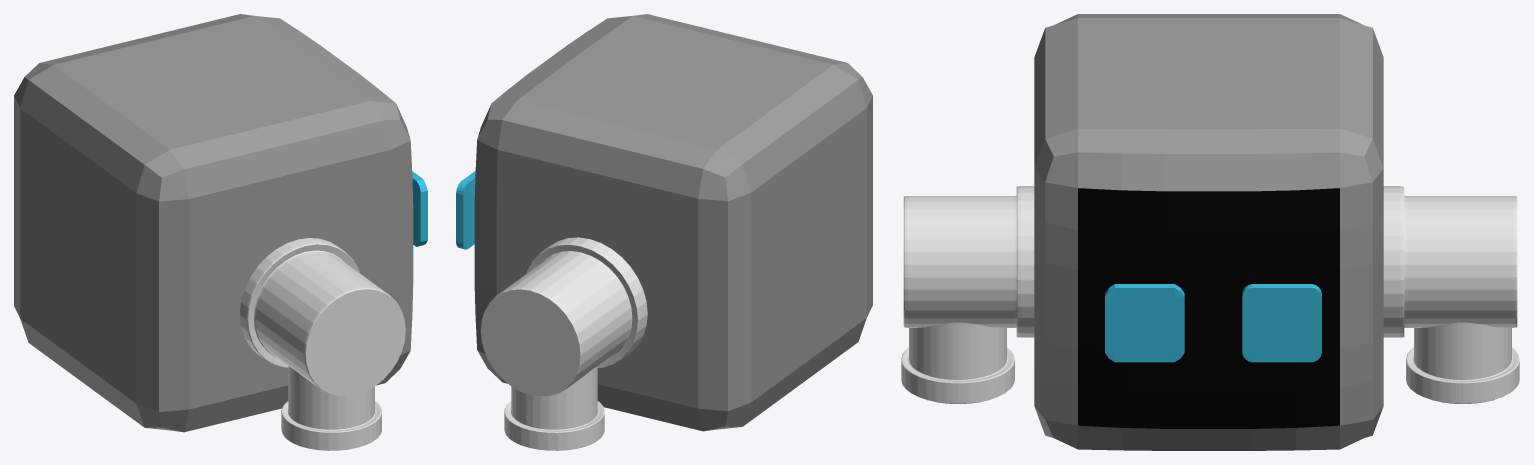
File: mascot.fbx
3 views of the same model, side by side, from view 1: azimuth 30°, elevation 25°; view 2: azimuth 150°, elevation 25°; view 3: azimuth 270°, elevation 25° (orthographic). The views are drawn at different scales.
Visible parts, largest first — view 1: Mascot, thrusters, Eyes; view 2: Mascot, thrusters, Eyes; view 3: Mascot, thrusters, Eyes.
Part boxes in pixels (x1,y1,x2,y2): Mascot: [14, 14, 413, 432]; thrusters: [239, 238, 405, 450]; Eyes: [412, 171, 427, 246]; Mascot: [474, 14, 872, 431]; thrusters: [480, 237, 647, 450]; Eyes: [456, 171, 475, 249]; Mascot: [1034, 14, 1383, 450]; thrusters: [901, 186, 1519, 403]; Eyes: [1105, 284, 1321, 362].
Size of the model in its own units: 227 by 200 by 354.
